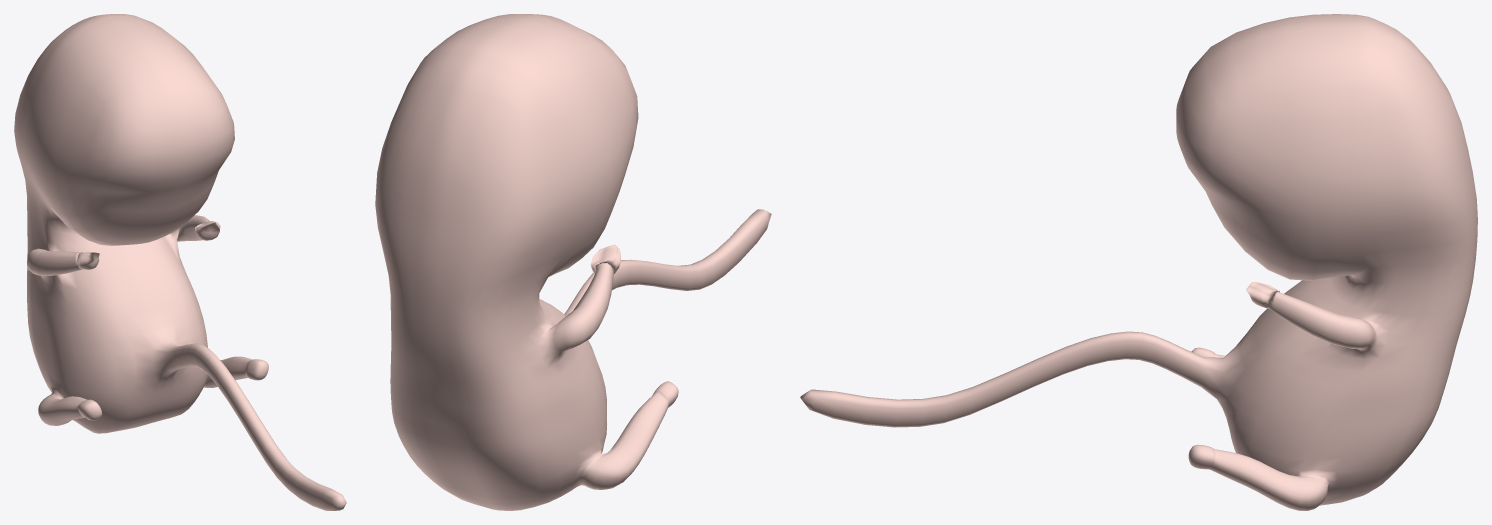
The model's file is tridi.fbx.
3 renders of one model, left to right at view 1: azimuth 30°, elevation 25°; view 2: azimuth 150°, elevation 25°; view 3: azimuth 270°, elevation 25°, orthographic. The views are drawn at different scales.
Parts seen in each view (by area): view 1: Cube; view 2: Cube; view 3: Cube.
Boxes of the visible parts, bbox=[...] form: Cube: bbox=[14, 14, 346, 510]; Cube: bbox=[375, 14, 771, 510]; Cube: bbox=[800, 14, 1477, 510].
Bounding box in the file's own units: 183 × 362 × 471.
